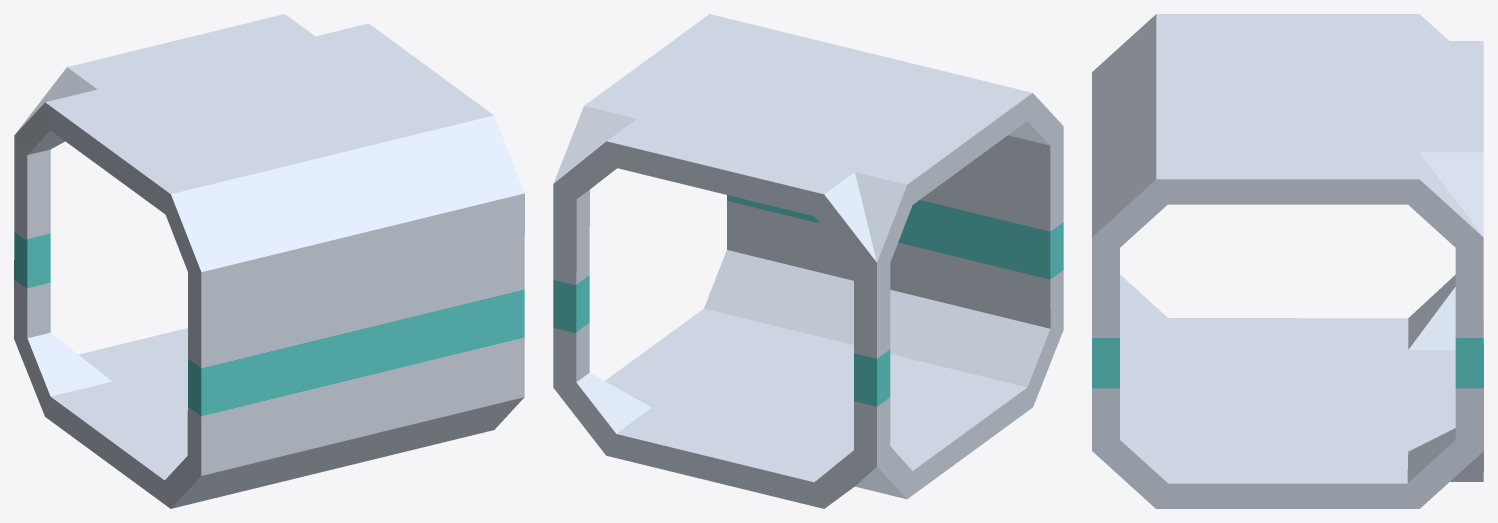
The model's file is pipe intersection 3.fbx.
The picture shows the model from 3 angles, left to right: view 1: azimuth 30°, elevation 25°; view 2: azimuth 150°, elevation 25°; view 3: azimuth 270°, elevation 25°; orthographic projection. The views are drawn at different scales.
Visible parts, largest first — view 1: pipe_intersection; view 2: pipe_intersection; view 3: pipe_intersection.
Boxes of the visible parts, x1=… form: pipe_intersection: x1=14, y1=14, x2=524, y2=508; pipe_intersection: x1=553, y1=14, x2=1063, y2=508; pipe_intersection: x1=1092, y1=14, x2=1483, y2=508.
Size of the model in its own units: 14.01 by 13 by 14.01.
1 material, 1 textured.
